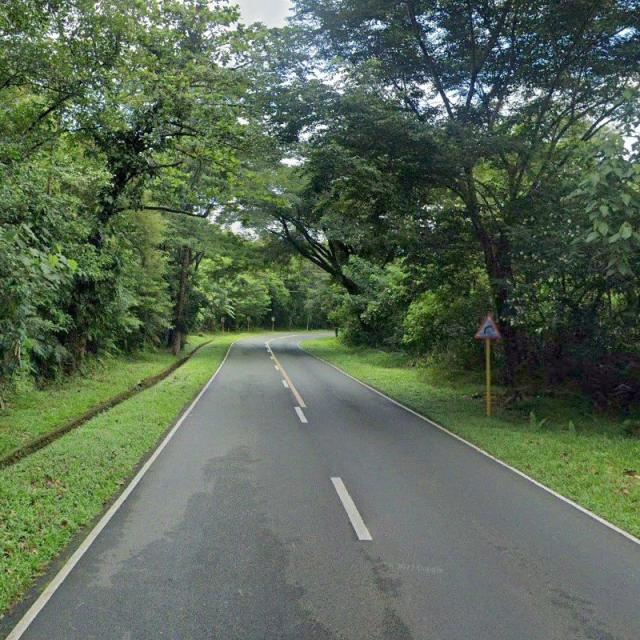warn_right_curve: (474, 314, 501, 338)
